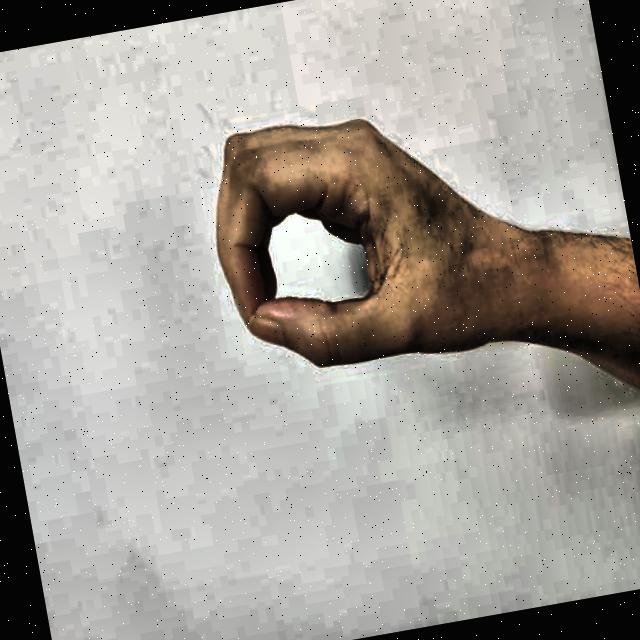O: (171, 61, 519, 438)
